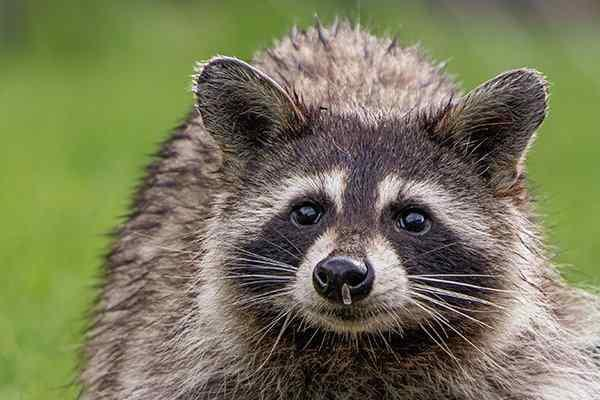raccoon: (71, 17, 600, 400)
